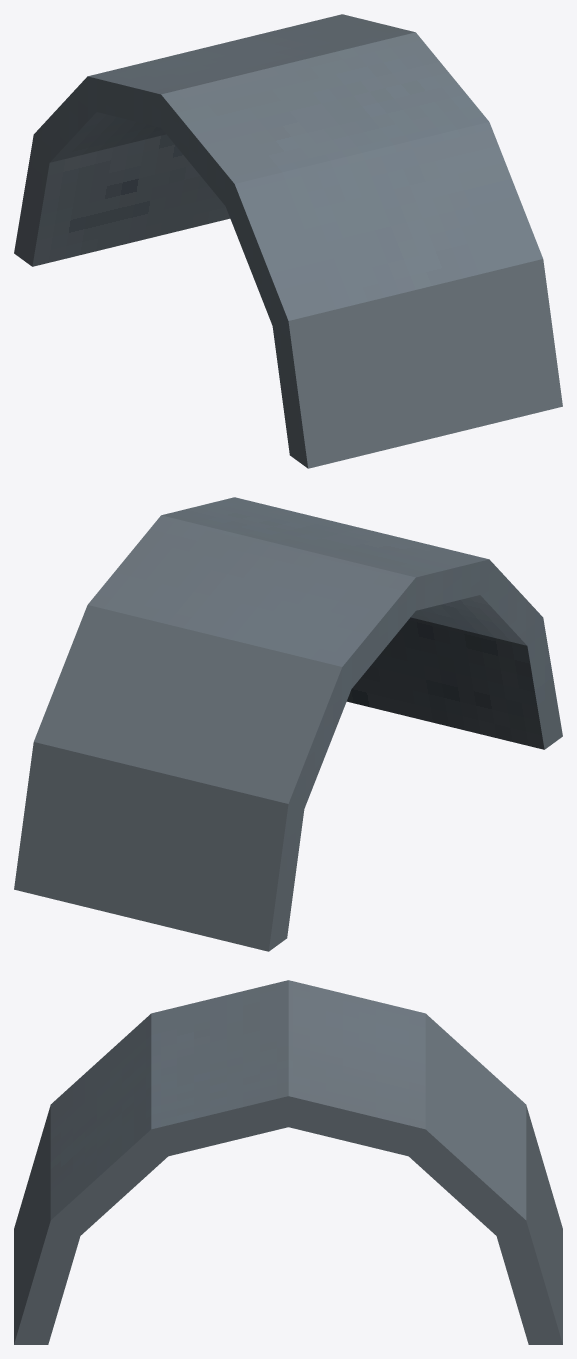
File: tunnel.fbx
3 renders of one model, top to bottom at view 1: azimuth 30°, elevation 25°; view 2: azimuth 150°, elevation 25°; view 3: azimuth 270°, elevation 25°, orthographic. The views are drawn at different scales.
Parts seen in each view (by area): view 1: tube; view 2: tube; view 3: tube.
Boxes of the visible parts, box(x1,y1,x2,y2) form: tube: box(14, 14, 562, 468); tube: box(14, 497, 562, 951); tube: box(14, 980, 562, 1344).
Size of the model in its own units: 0.7812 by 0.7812 by 1.56.
